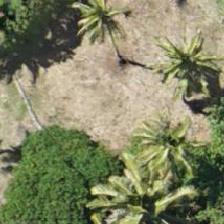coconut_tree: (123, 96, 213, 186), (144, 17, 223, 107), (59, 0, 149, 64)
